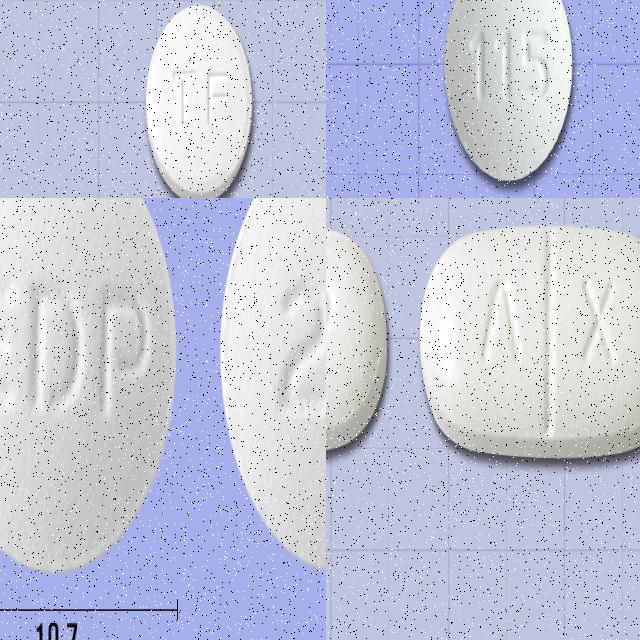Amoxicle-7-1-: (416, 222, 640, 463), (326, 217, 391, 465)
Ciflox: (0, 198, 180, 580), (219, 198, 326, 578)
Ciprocin - 259mg: (441, 0, 579, 190)
Curasil: (145, 3, 254, 198)
